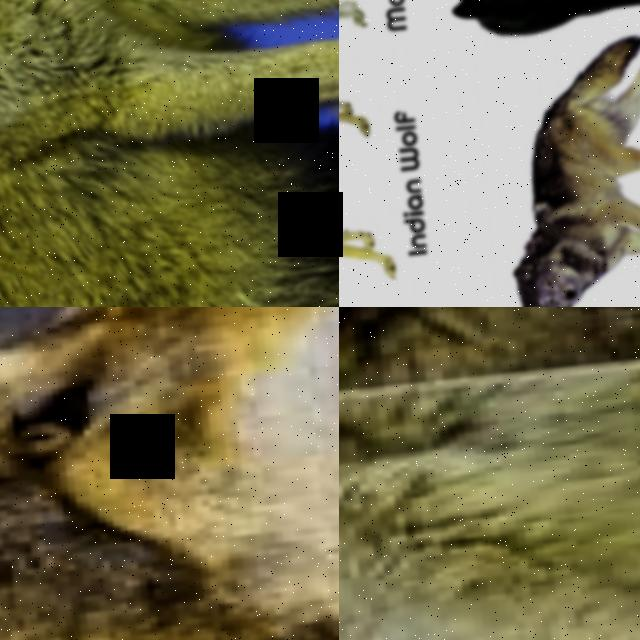wolf: (0, 307, 339, 640), (0, 0, 339, 307), (339, 307, 640, 640), (450, 6, 640, 307), (339, 307, 640, 420), (403, 0, 640, 91), (339, 60, 422, 307)
